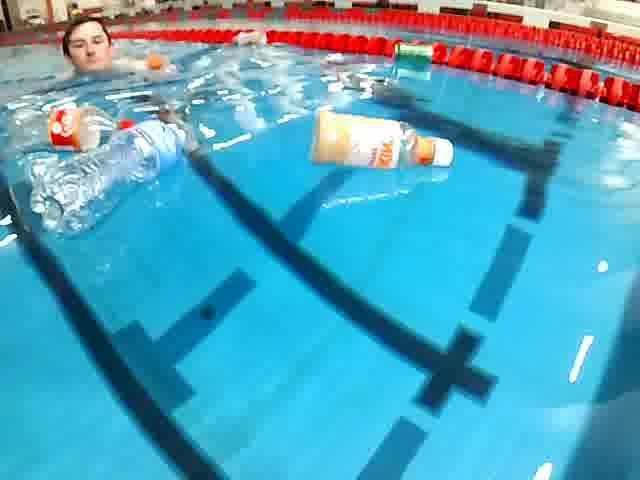Bottle: (22, 119, 192, 244), (305, 110, 459, 177), (0, 104, 142, 154)
Can: (382, 38, 444, 64)
